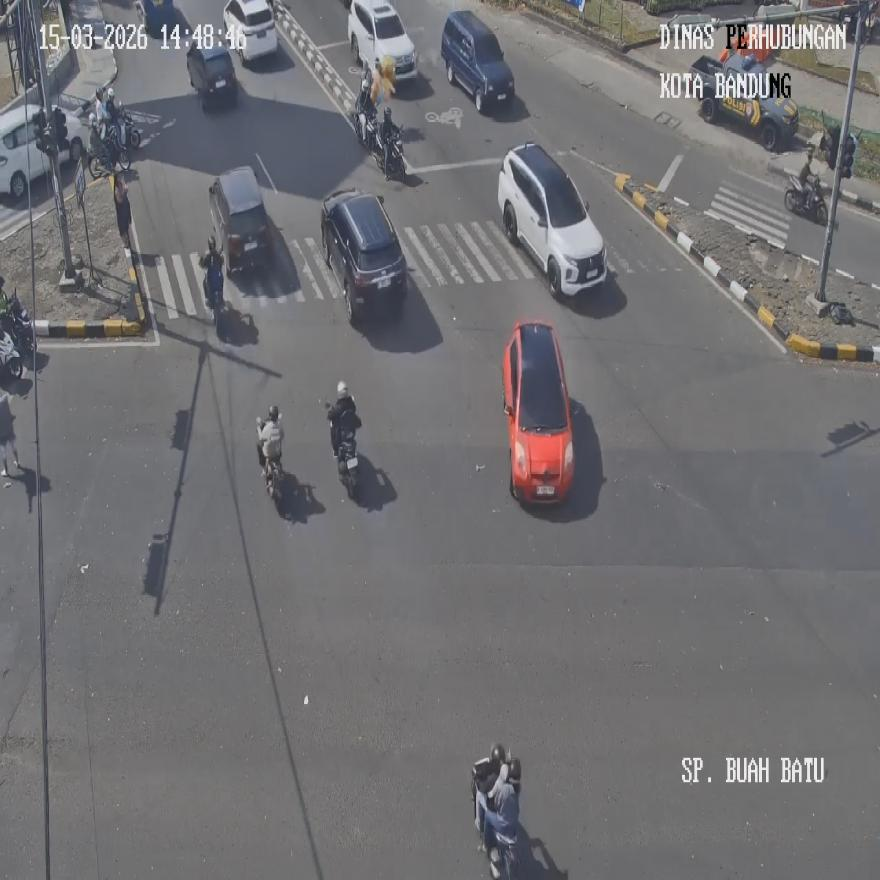Motor: (496, 141, 606, 298), (503, 319, 575, 505), (320, 187, 407, 323), (689, 49, 798, 150), (0, 104, 81, 198), (441, 9, 514, 111), (208, 166, 275, 276), (348, 0, 418, 82), (185, 33, 236, 109), (223, 0, 277, 62)
Truk: (470, 759, 520, 880), (329, 404, 359, 498), (256, 413, 283, 507), (784, 172, 825, 222), (7, 294, 35, 356), (380, 127, 406, 180), (0, 323, 23, 380)
